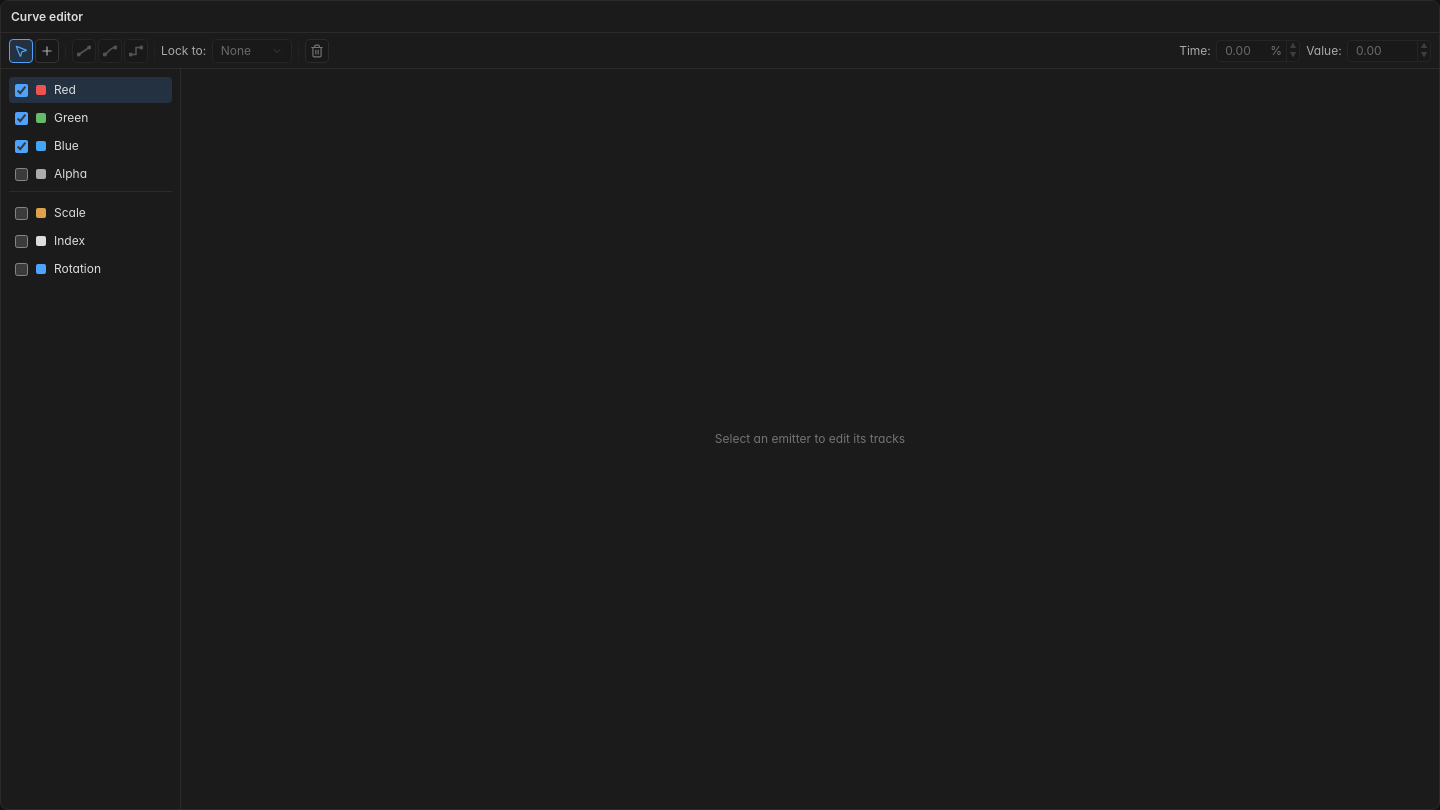
Scenario: CurveEditorPanel › enabling Scale via row click also hides every other channel
Click the button with test id "curve-channel-row-scale": (70, 212) [15, 205, 86, 220]
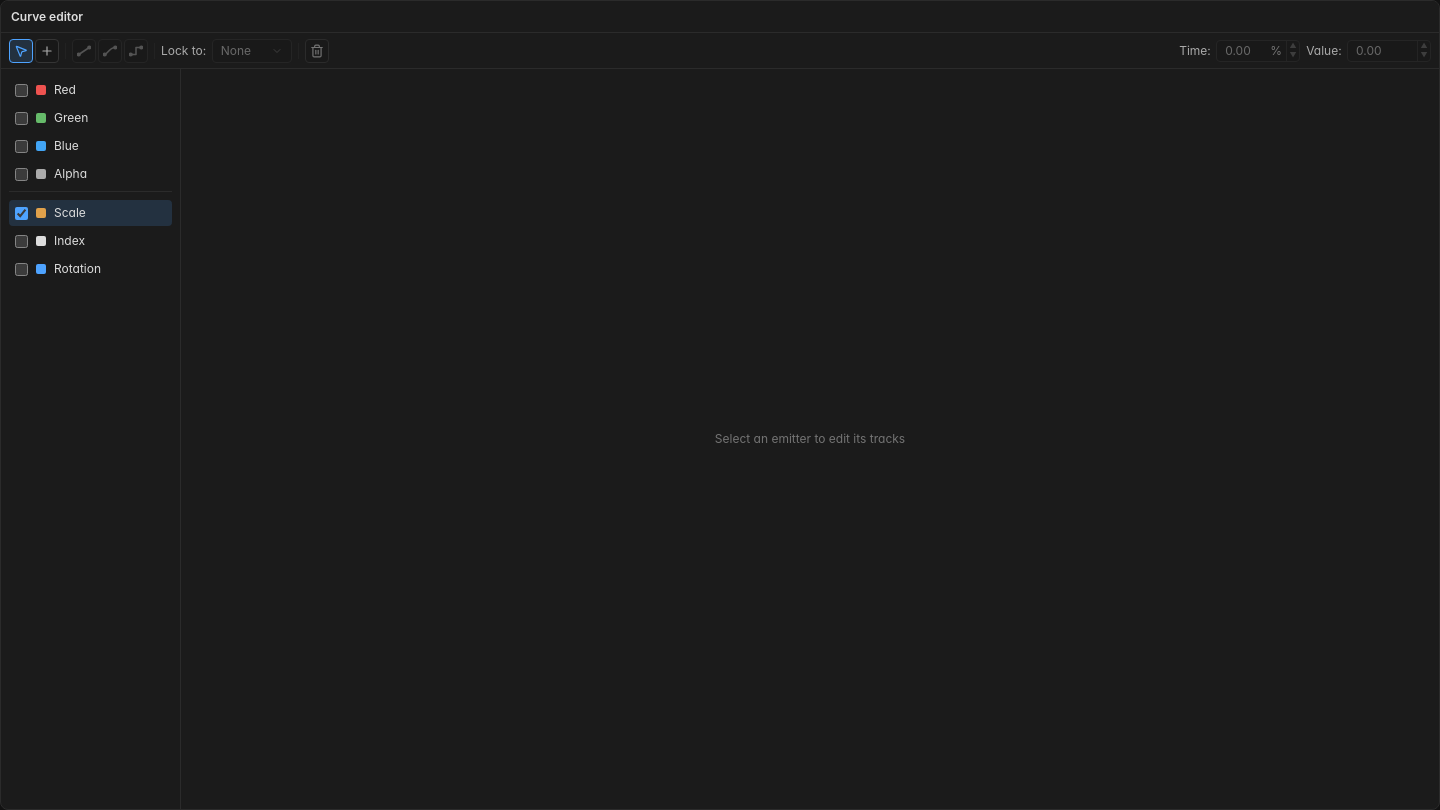
Now the checkbox with test id "curve-channel-checkbox-scale" is checked, box [15, 206, 28, 220]
Now the checkbox with test id "curve-channel-checkbox-red" is not checked, box [15, 84, 28, 96]
Now the checkbox with test id "curve-channel-checkbox-green" is not checked, box [15, 112, 28, 124]
